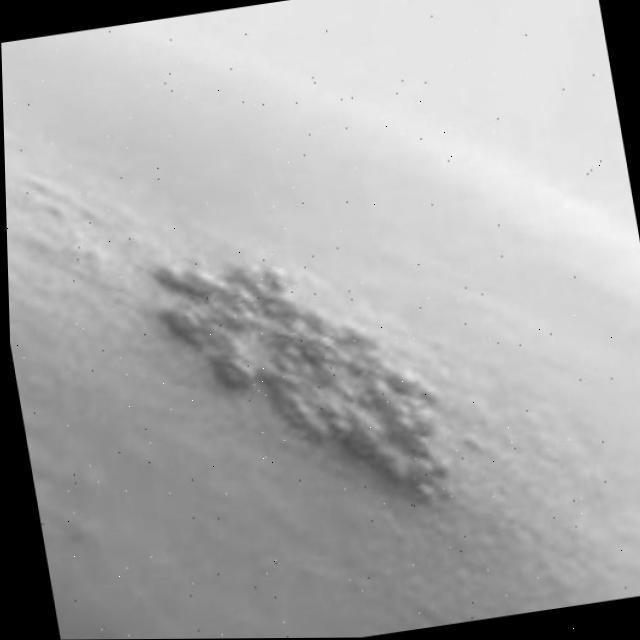Shingles: (131, 206, 460, 548)
